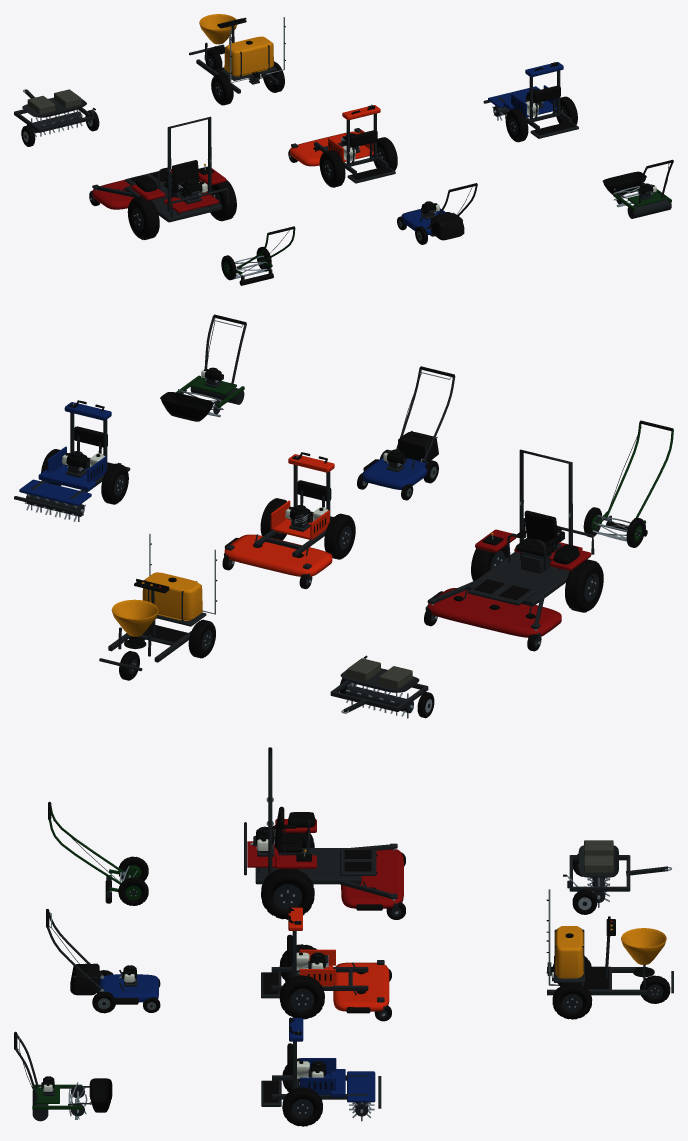
Rendered from 26_MowersAndRideOns.gltf.
The picture shows the model from 3 angles, top to bottom: view 1: azimuth 30°, elevation 25°; view 2: azimuth 150°, elevation 25°; view 3: azimuth 270°, elevation 25°; orthographic projection. The views are drawn at different scales.
Parts seen in each view (by area): view 1: CommercialZeroTurn__Body, RideOnSpreaderSprayer__Body, StandOnMower__Body, StandOnAerator__Body, SelfPropelledMower__Body, TowBehindAerator__Body, CommercialReelMower__Body, CommercialZeroTurn__Wheel_Rear-1, StandOnMower__Wheel_Rear-1, ReelMower__Body, CommercialZeroTurn__Wheel_Rear1, StandOnAerator__Wheel_Rear-1 (+4 smaller); view 2: CommercialZeroTurn__Body, StandOnMower__Body, RideOnSpreaderSprayer__Body, StandOnAerator__Body, SelfPropelledMower__Body, CommercialReelMower__Body, TowBehindAerator__Body, CommercialZeroTurn__Wheel_Rear-1, StandOnMower__Wheel_Rear-1, ReelMower__Body, StandOnAerator__Wheel_Rear-1, TowBehindAerator__Wheel_Tines (+3 smaller); view 3: CommercialZeroTurn__Body, StandOnMower__Body, RideOnSpreaderSprayer__Body, StandOnAerator__Body, SelfPropelledMower__Body, TowBehindAerator__Body, CommercialReelMower__Body, CommercialZeroTurn__Wheel_Rear1, StandOnMower__Wheel_Rear1, StandOnAerator__Wheel_Rear1, RideOnSpreaderSprayer__Wheel_Rear1, ReelMower__Body (+2 smaller).
Part boxes in pixels (box(x1,y1,x2,y2)): CommercialZeroTurn__Body: box(90, 116, 229, 222); RideOnSpreaderSprayer__Body: box(189, 14, 285, 93); StandOnMower__Body: box(289, 104, 395, 183); StandOnAerator__Body: box(483, 61, 578, 138); SelfPropelledMower__Body: box(401, 183, 477, 240); TowBehindAerator__Body: box(14, 89, 95, 132); CommercialReelMower__Body: box(602, 159, 673, 211); CommercialZeroTurn__Wheel_Rear-1: box(127, 196, 159, 239); StandOnMower__Wheel_Rear-1: box(319, 150, 345, 187); ReelMower__Body: box(234, 226, 295, 285); CommercialZeroTurn__Wheel_Rear1: box(207, 180, 236, 221); StandOnAerator__Wheel_Rear-1: box(505, 108, 528, 142); CommercialZeroTurn__Body: box(425, 449, 594, 644); StandOnMower__Body: box(224, 452, 334, 583); RideOnSpreaderSprayer__Body: box(99, 533, 217, 671); StandOnAerator__Body: box(14, 400, 130, 514); SelfPropelledMower__Body: box(362, 366, 455, 489); CommercialReelMower__Body: box(160, 314, 246, 421); TowBehindAerator__Body: box(330, 655, 428, 713); CommercialZeroTurn__Wheel_Rear-1: box(565, 559, 603, 612); StandOnMower__Wheel_Rear-1: box(324, 513, 355, 559); ReelMower__Body: box(592, 420, 673, 539); StandOnAerator__Wheel_Rear-1: box(101, 463, 128, 504); TowBehindAerator__Wheel_Tines: box(346, 682, 413, 718); CommercialZeroTurn__Body: box(244, 747, 403, 914); StandOnMower__Body: box(261, 907, 389, 1016); RideOnSpreaderSprayer__Body: box(546, 889, 673, 995); StandOnAerator__Body: box(261, 1017, 381, 1108); SelfPropelledMower__Body: box(46, 909, 158, 1004); TowBehindAerator__Body: box(563, 840, 671, 891); CommercialReelMower__Body: box(14, 1031, 112, 1119); CommercialZeroTurn__Wheel_Rear1: box(261, 869, 314, 919); StandOnMower__Wheel_Rear1: box(279, 975, 324, 1019); StandOnAerator__Wheel_Rear1: box(282, 1087, 322, 1126); RideOnSpreaderSprayer__Wheel_Rear1: box(552, 982, 592, 1019); ReelMower__Body: box(48, 801, 140, 903).
Bounding box in the file's own units: 7.92 × 1.9 × 8.46.
Materials: 1 (1 with a texture image).
